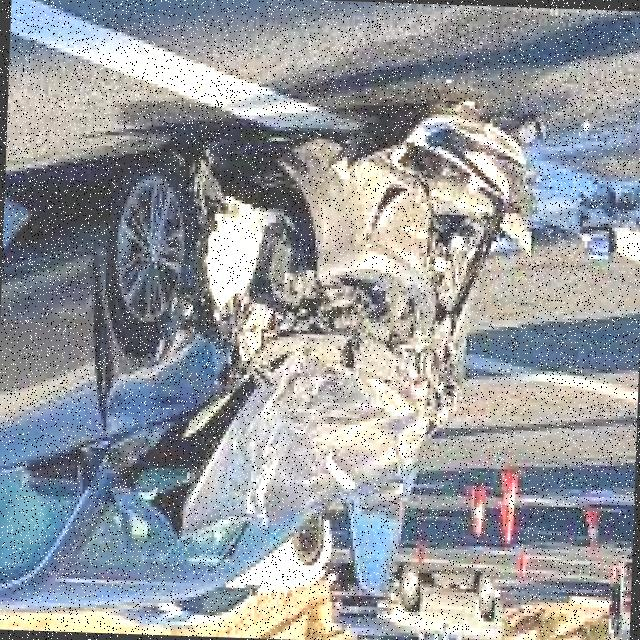Severe Damage: (107, 52, 534, 528)
